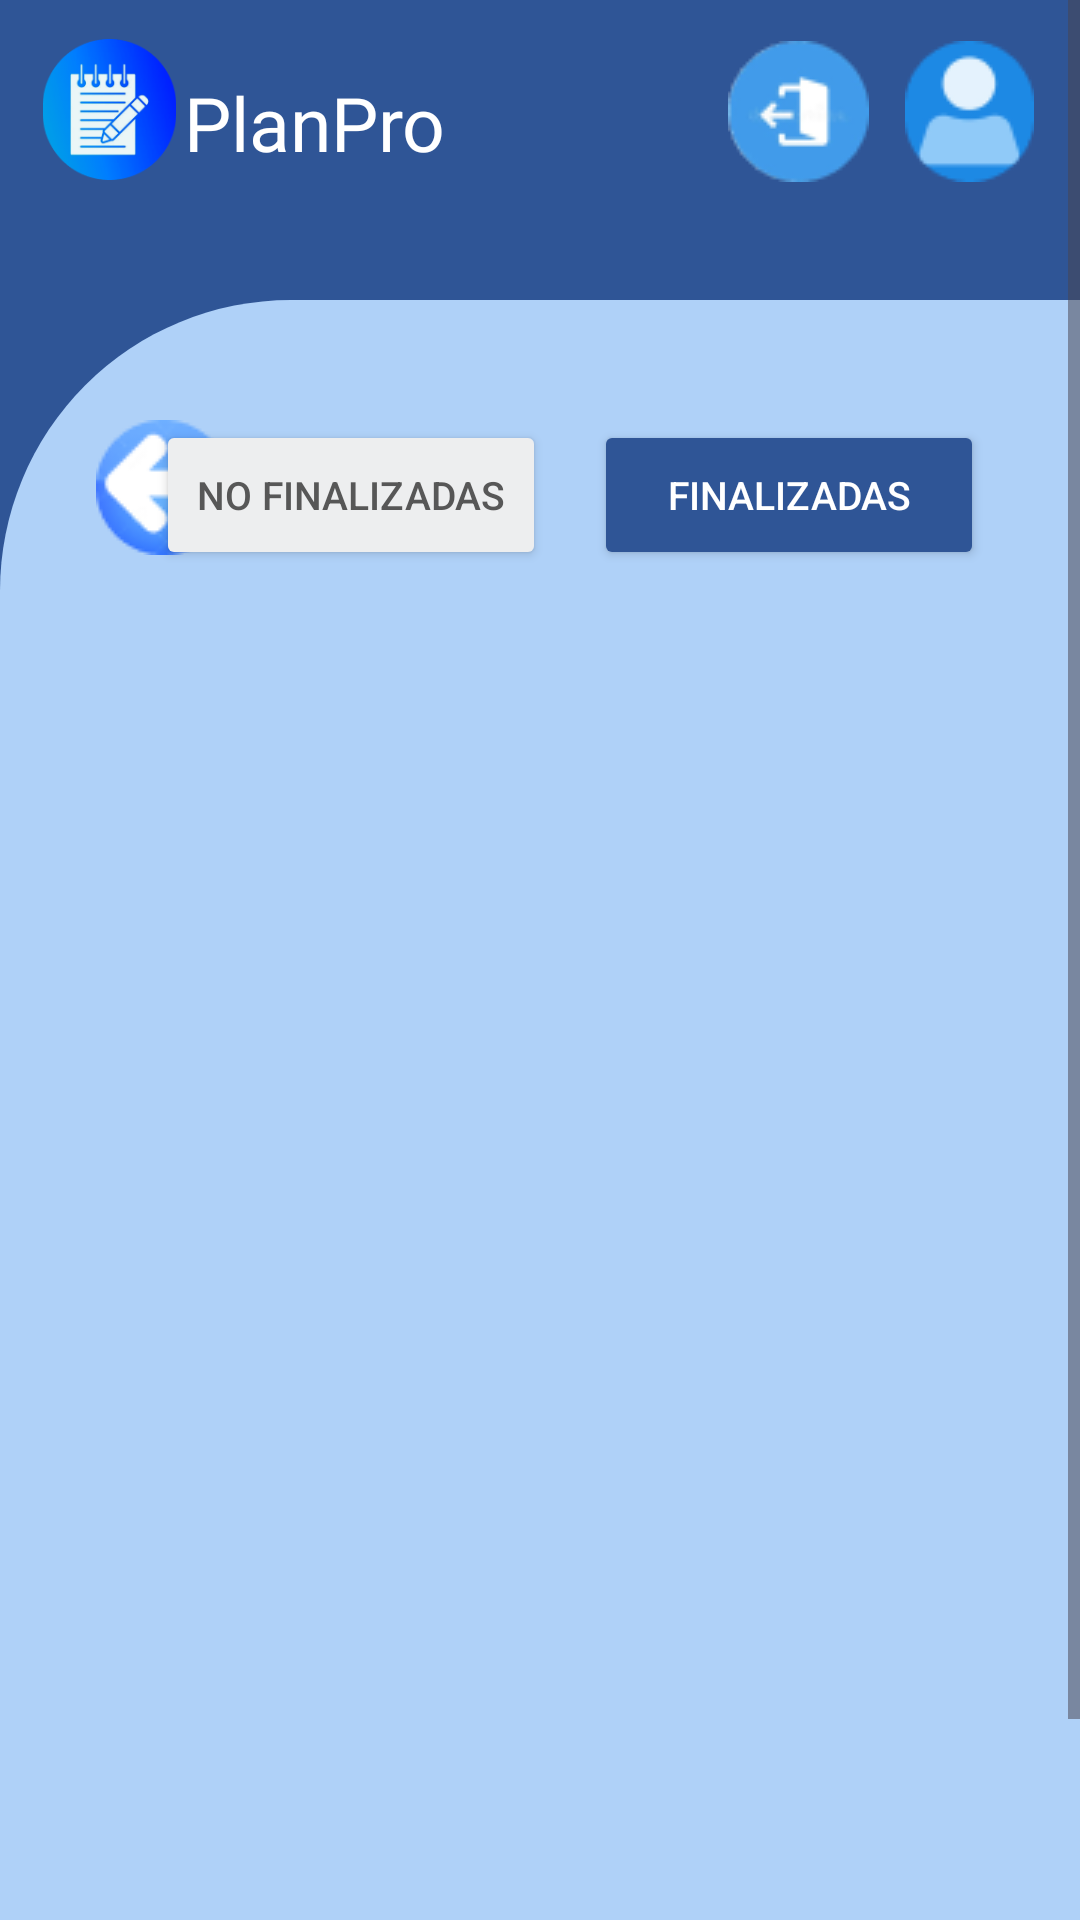

Point at icon controls on the screen. Image size 1080px×1920px, points as (x,y).
Editar usuario: (969,111)
Salir: (798,111)
